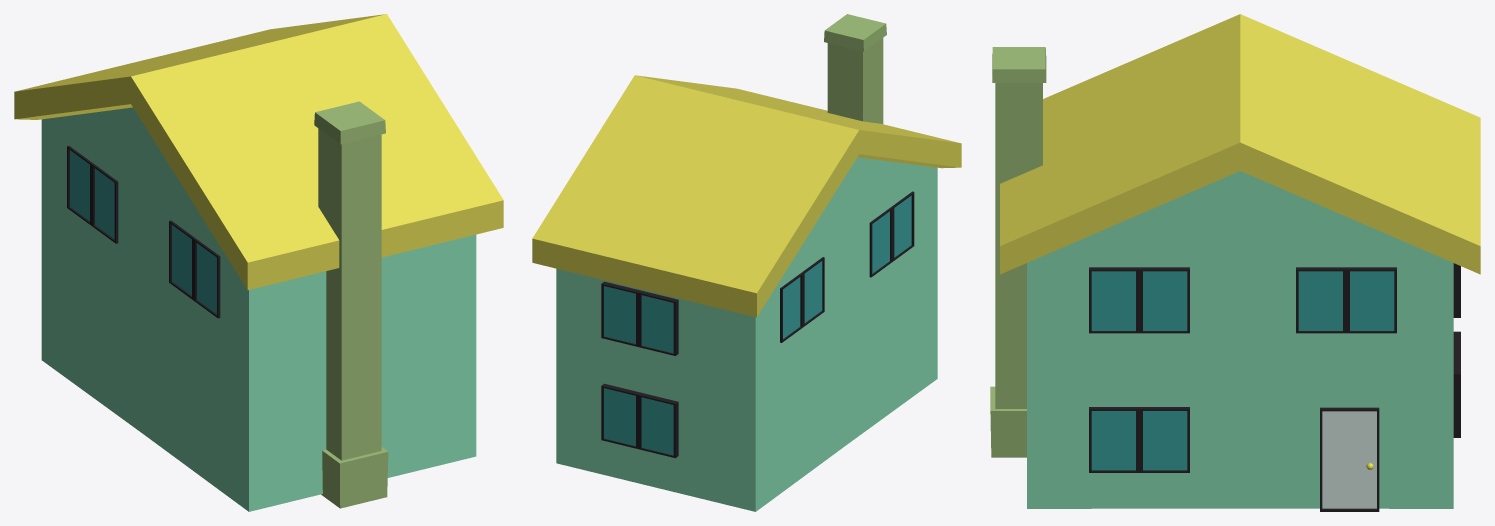
Rendered from house3.fbx.
3 renders of one model, left to right at view 1: azimuth 30°, elevation 25°; view 2: azimuth 150°, elevation 25°; view 3: azimuth 270°, elevation 25°, orthographic. The views are drawn at different scales.
Parts seen in each view (by area): view 1: Plane, Plane.001, Cube, Cube.009, Cube.008; view 2: Plane, Plane.001, Cube, Cube.004, Cube.007, Cube.009, Cube.008; view 3: Plane, Plane.001, Cube, Cube.005, Cube.006, Cube.003, Cube.002, Cube.007.
Part boxes in pixels (x1,y1,x2,y2): Plane: [41, 107, 476, 511]; Plane.001: [14, 14, 503, 289]; Cube: [314, 101, 388, 508]; Cube.009: [169, 220, 220, 318]; Cube.008: [67, 146, 118, 243]; Plane: [556, 157, 937, 511]; Plane.001: [532, 75, 961, 317]; Cube: [824, 14, 886, 123]; Cube.004: [601, 281, 678, 355]; Cube.007: [601, 383, 678, 458]; Cube.009: [869, 191, 914, 277]; Cube.008: [780, 257, 824, 342]; Plane: [1027, 171, 1453, 508]; Plane.001: [1000, 14, 1480, 274]; Cube: [990, 47, 1046, 457]; Cube.005: [1089, 267, 1189, 333]; Cube.006: [1296, 267, 1396, 333]; Cube.003: [1089, 407, 1189, 472]; Cube.002: [1320, 407, 1379, 511]; Cube.007: [1453, 331, 1460, 437].
Size of the model in its own units: 1275 by 1792 by 2054.
Materials: 5 (2 with a texture image).
